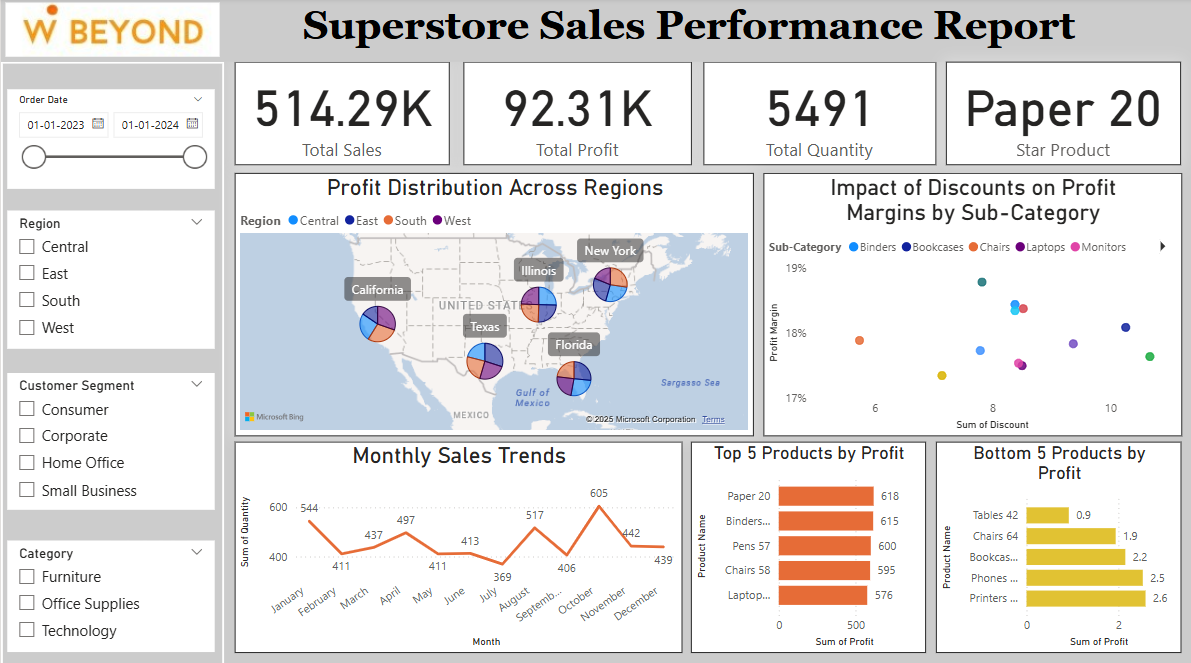

The page's visual inventory and layout, read from the dashboard file:
{"tool":"powerbi","page":{"name":"Sales Report","canvas":[1280,720],"ordinal":0},"visuals":[{"type":"shape","box":[0,68.6,240,651.4],"z":0},{"type":"card","fields":{"Values":["Sum(Sheet1.Sales Amount)"]},"box":[251.4,68.6,231.4,111.4],"z":1000},{"type":"card","fields":{"Values":["Sum(Sheet1.Profit)"]},"box":[497.1,68.6,245.7,111.4],"z":2000},{"type":"card","fields":{"Values":["Sum(Sheet1.Quantity)"]},"box":[755.7,68.6,250,111.4],"z":3000},{"type":"lineChart","title":"Monthly Sales Trends","fields":{"Category":["Sheet1.Order Date.Variation.Date Hierarchy.Year","Sheet1.Order Date.Variation.Date Hierarchy.Quarter","Sheet1.Order Date.Variation.Date Hierarchy.Month","Sheet1.Order Date.Variation.Date Hierarchy.Day"],"Y":["Sum(Sheet1.Sales Amount)"]},"box":[251.4,477.1,481.4,227.1],"z":4000},{"type":"map","title":"Profit Distribution Across Regions","fields":{"Category":["Sheet1.State"],"Size":["Sum(Sheet1.Profit)"],"Series":["Sheet1.Region"]},"box":[251.4,188.6,558.6,282.9],"z":5000},{"type":"barChart","title":"Top 5 Products by Profit","fields":{"Y":["Sum(Sheet1.Profit)"],"Category":["Sheet1.Product Name"]},"box":[742.9,477.1,252.9,227.1],"z":6000},{"type":"scatterChart","title":"Impact of Discounts on Profit Margins by Sub-Category","fields":{"X":["Sum(Sheet1.Discount)"],"Y":["Sheet1.Profit Margin"],"Series":["Sheet1.Sub-Category"],"Category":["Sheet1.Sub-Category"]},"box":[820,188.6,450,282.9],"z":7000},{"type":"slicer","fields":{"Values":["Sheet1.Order Date"]},"box":[7.1,98.6,222.9,107.1],"z":8000},{"type":"slicer","fields":{"Values":["Sheet1.Region"]},"box":[7.1,228.6,222.9,148.6],"z":9000},{"type":"slicer","fields":{"Values":["Sheet1.Customer Segment"]},"box":[7.1,402.9,222.9,147.1],"z":10000},{"type":"slicer","fields":{"Values":["Sheet1.Category"]},"box":[7.1,584.3,222.9,120],"z":11000},{"type":"barChart","title":"Bottom 5 Products by Profit","fields":{"Category":["Sheet1.Product Name"],"Y":["Sum(Sheet1.Profit)"]},"box":[1005.7,477.1,264.3,227.1],"z":12000},{"type":"textbox","box":[0,0,1280,68.6],"z":13000},{"type":"image","box":[0,0,240,68.6],"z":14000},{"type":"card","fields":{"Values":["Min(Sheet1.Product Name)"]},"box":[1017.1,68.6,252.9,111.4],"z":15000}]}

Visuals, with their boxes on the page's 1280x720 design canvas (x1, y1, x2, y2). These are canvas units, not pixel positions in the 1191x663 screenshot, which may show the page scaled, cropped or inside an application window:
shape: (x1=0, y1=69, x2=240, y2=720)
card - Sum(Sheet1.Sales Amount): (x1=251, y1=69, x2=483, y2=180)
card - Sum(Sheet1.Profit): (x1=497, y1=69, x2=743, y2=180)
card - Sum(Sheet1.Quantity): (x1=756, y1=69, x2=1006, y2=180)
"Monthly Sales Trends" lineChart: (x1=251, y1=477, x2=733, y2=704)
"Profit Distribution Across Regions" map: (x1=251, y1=189, x2=810, y2=472)
"Top 5 Products by Profit" barChart: (x1=743, y1=477, x2=996, y2=704)
"Impact of Discounts on Profit Margins by Sub-Category" scatterChart: (x1=820, y1=189, x2=1270, y2=472)
slicer - Sheet1.Order Date: (x1=7, y1=99, x2=230, y2=206)
slicer - Sheet1.Region: (x1=7, y1=229, x2=230, y2=377)
slicer - Sheet1.Customer Segment: (x1=7, y1=403, x2=230, y2=550)
slicer - Sheet1.Category: (x1=7, y1=584, x2=230, y2=704)
"Bottom 5 Products by Profit" barChart: (x1=1006, y1=477, x2=1270, y2=704)
textbox: (x1=0, y1=0, x2=1280, y2=69)
image: (x1=0, y1=0, x2=240, y2=69)
card - Min(Sheet1.Product Name): (x1=1017, y1=69, x2=1270, y2=180)
